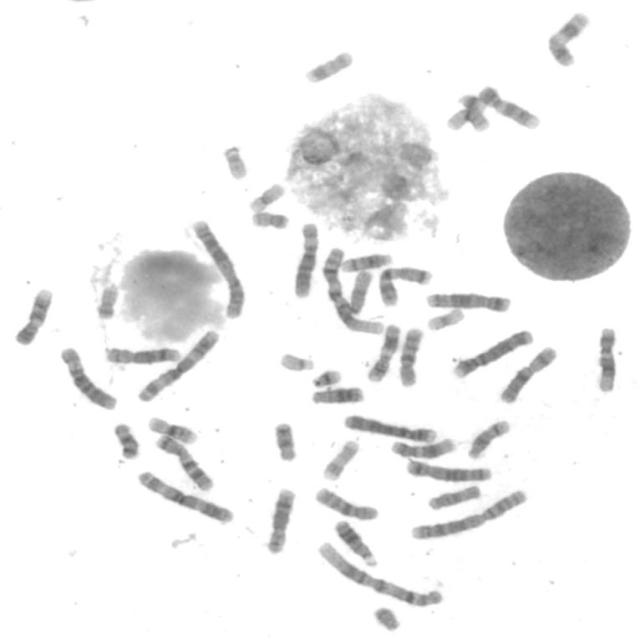A1: (313, 536, 446, 609), (317, 243, 386, 336)
A2: (405, 485, 531, 541), (187, 215, 247, 320)
A3: (132, 325, 221, 403), (132, 466, 236, 526)
B4: (448, 325, 535, 380), (339, 409, 440, 444)
B5: (400, 454, 495, 482), (422, 288, 512, 314)
C10: (310, 484, 381, 522), (394, 322, 426, 388)
C11: (543, 7, 592, 68), (362, 319, 402, 384)
C12: (591, 323, 620, 393), (387, 434, 458, 460)
C6: (55, 342, 119, 411), (287, 218, 321, 300)
C7: (150, 430, 216, 493), (374, 262, 434, 308)
C8: (261, 484, 298, 556), (100, 342, 182, 365)
C9: (474, 81, 541, 130), (10, 284, 55, 346)
D13: (329, 515, 380, 568), (307, 383, 366, 406)
D14: (464, 416, 512, 460), (337, 248, 395, 273)
D15: (424, 481, 483, 512), (342, 266, 374, 315)
E16: (440, 90, 500, 130), (143, 412, 199, 446)
E17: (300, 46, 355, 85), (318, 435, 361, 482)
E18: (109, 418, 141, 460), (269, 418, 299, 462)
F19: (244, 178, 287, 214), (423, 304, 466, 332)
F20: (91, 279, 121, 321), (246, 207, 292, 231)
G21: (456, 94, 492, 132), (307, 365, 343, 389)
G22: (218, 140, 250, 182), (275, 348, 316, 373)
X: (495, 342, 559, 405)
Y: (368, 602, 402, 633)
